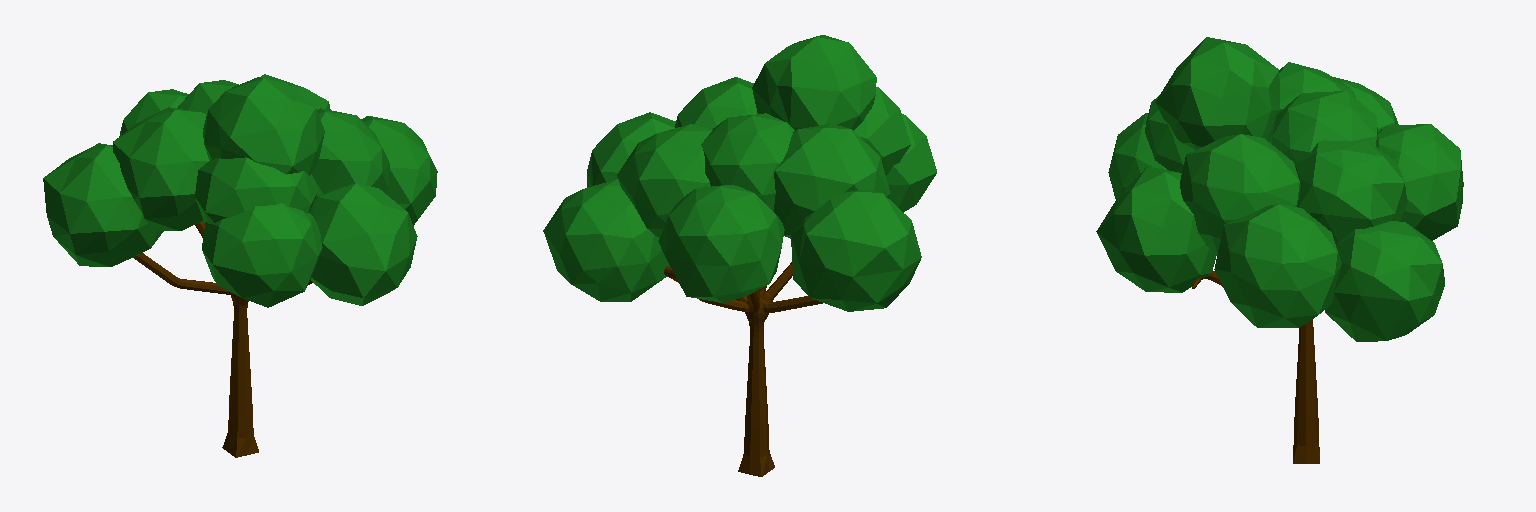
3 renders of one model, left to right at view 1: azimuth 30°, elevation 25°; view 2: azimuth 150°, elevation 25°; view 3: azimuth 270°, elevation 25°, orthographic.
Visible parts, largest first — view 1: Plane.001; view 2: Plane.001; view 3: Plane.001.
Part boxes in pixels (left/top/right/bottom): Plane.001: left=43, top=74, right=437, bottom=457; Plane.001: left=543, top=35, right=936, bottom=476; Plane.001: left=1096, top=37, right=1463, bottom=463.
Size of the model in its own units: 12.62 by 14.26 by 11.67.
Materials: 1 (1 with a texture image).